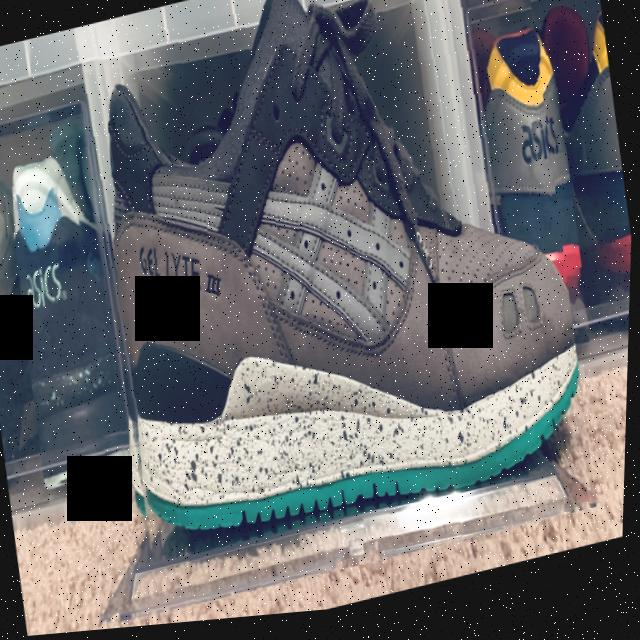shoe: (58, 0, 614, 626), (0, 110, 144, 492), (462, 10, 590, 299)
